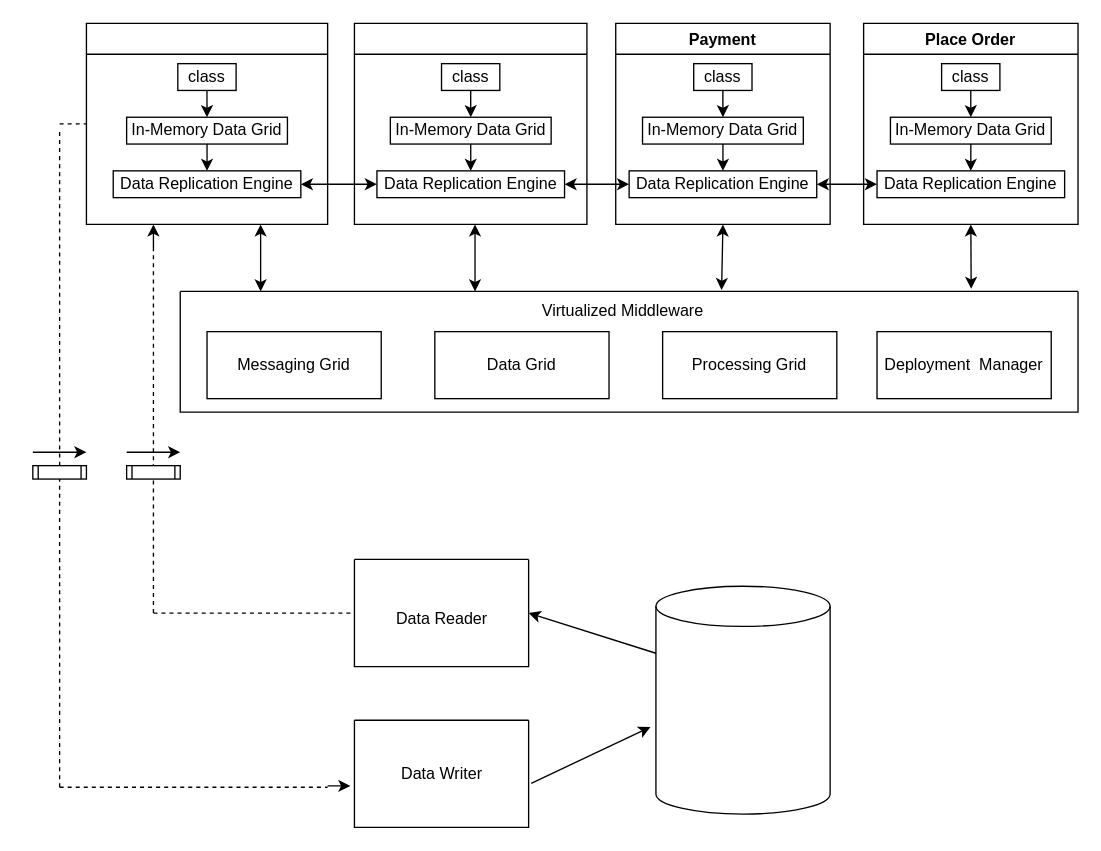
The diagram is 1101 pixels wide and 851 high, and some of its shapes have lost their labels. The box of each missing label's shape, as (x1, y1, x2, y2) in pixels:
Database: (655, 585, 830, 814)
Notification: (85, 22, 328, 224)
Process Order: (353, 22, 587, 224)
